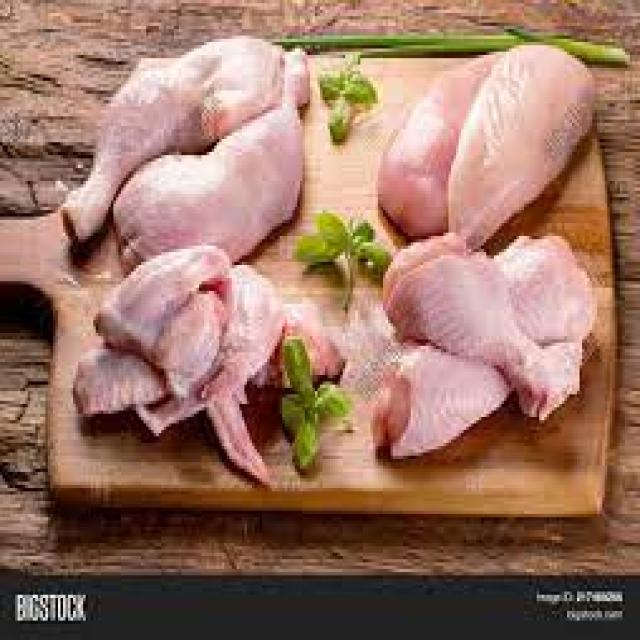Chicken: (68, 243, 352, 497), (372, 222, 604, 494), (56, 31, 313, 270), (376, 41, 600, 248)
Spring onion: (272, 26, 635, 66)
